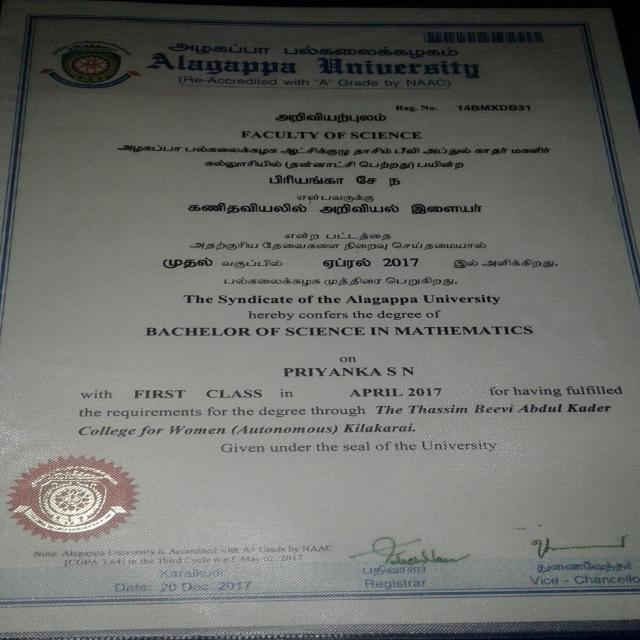degree: (136, 320, 554, 344)
signature: (516, 527, 640, 585), (358, 531, 464, 584)
stamp: (16, 454, 141, 546)
